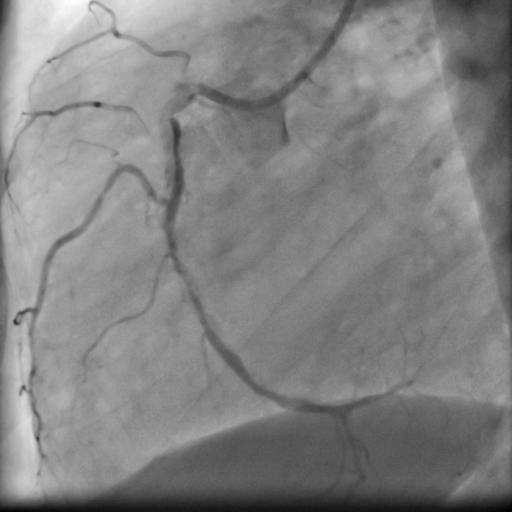Stenosis: (156, 100, 188, 123)
